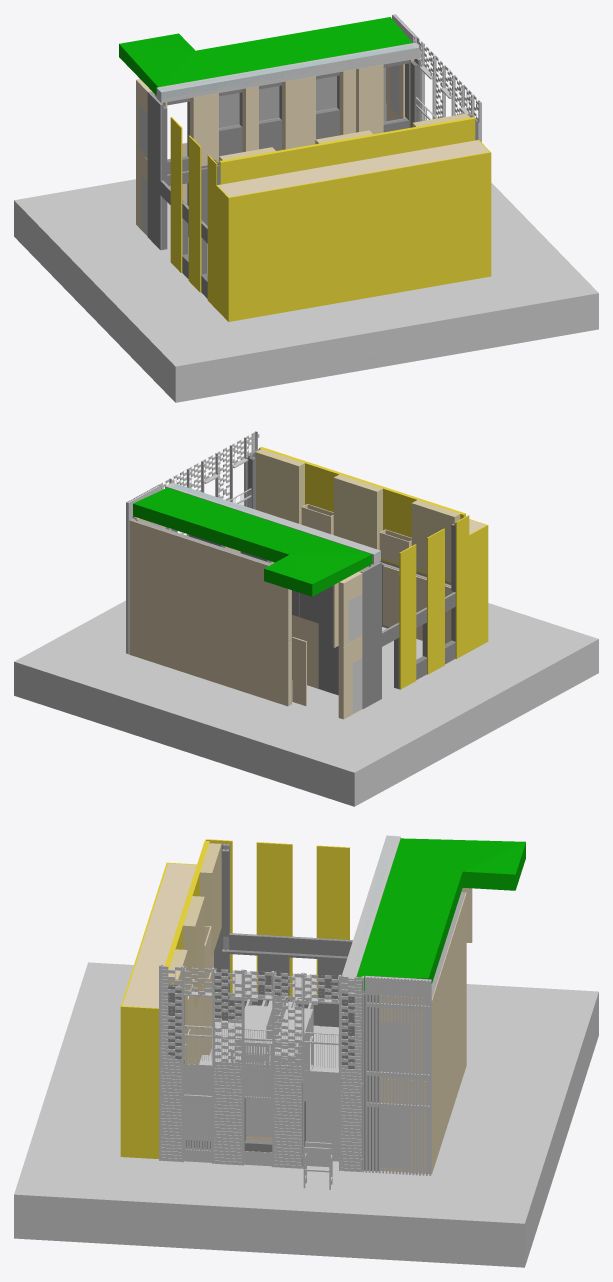
The picture shows the model from 3 angles, top to bottom: view 1: azimuth 30°, elevation 25°; view 2: azimuth 150°, elevation 25°; view 3: azimuth 270°, elevation 25°; orthographic projection. The views are drawn at different scales.
Parts seen in each view (by area): view 1: 0d3L4O0F59seKqYsLLgrkj, 2v9yYy8EH3HOJpknbzuAzj, 2gjWKkFiXEL9Jyys1nJJkd, 2OdDJrY919g8c$VvFhSK0m, 3CWt$a_kb9$wCQ6bHHV0U1, 2WVu1a2OnC4gox7KKRa3JH, 0xZdHzzMX9uQmfRbWcZnhk, 3VmWyd0f913fvxv67NsL9Z, 3AlVIus6fArBEpGHlLdZtR, 3AlVIus6fArBEpGHlLdZsw, 2v9yYy8EH3HOJpknbzuAZu, 3VmWyd0f913fvxv67NsL7d (+16 smaller); view 2: 0d3L4O0F59seKqYsLLgrkj, 2gjWKkFiXEL9Jyys1nJJkd, 3Ri3ietiX7$xG5uKDum9j5, 0vVDU5bLz61w4oGACvW4fv, 0xZdHzzMX9uQmfRbWcZnhk, 3Ri3ietiX7$xG5uKDum9iw, 0vVDU5bLz61w4oGACvW4fu, 02XPZc$jj46gLmFopGcft9, 2OdDJrY919g8c$VvFhSK0m, 02XPZc$jj46gLmFopGcfnE, 3AlVIus6fArBEpGHlLdZtR, 3AlVIus6fArBEpGHlLdZsw (+24 smaller); view 3: 0d3L4O0F59seKqYsLLgrkj, 0xZdHzzMX9uQmfRbWcZnhk, 2gjWKkFiXEL9Jyys1nJJkd, 2v9yYy8EH3HOJpknbzuAvF, 2WVu1a2OnC4gox7KKRa3JH, 3AlVIus6fArBEpGHlLdZtR, 1t6hKOTDP8LvBx6Ujkcb5Q, 3AlVIus6fArBEpGHlLdZsw, 3CWt$a_kb9$wCQ6bHHV0U1, 1vONGcZYTDJwL09tW9vBWf, 02XPZc$jj46gLmFopGce3m, 1vONGcZYTDJwL09tW9v8LB (+26 smaller).
Part boxes in pixels (bbox=[...]): 0d3L4O0F59seKqYsLLgrkj: bbox=[14, 179, 598, 402]; 2v9yYy8EH3HOJpknbzuAzj: bbox=[230, 152, 491, 321]; 2gjWKkFiXEL9Jyys1nJJkd: bbox=[119, 17, 412, 95]; 2OdDJrY919g8c$VvFhSK0m: bbox=[219, 117, 475, 184]; 3CWt$a_kb9$wCQ6bHHV0U1: bbox=[156, 42, 420, 102]; 2WVu1a2OnC4gox7KKRa3JH: bbox=[218, 140, 488, 197]; 0xZdHzzMX9uQmfRbWcZnhk: bbox=[392, 14, 481, 142]; 3VmWyd0f913fvxv67NsL9Z: bbox=[285, 76, 314, 149]; 3AlVIus6fArBEpGHlLdZtR: bbox=[188, 135, 201, 292]; 3AlVIus6fArBEpGHlLdZsw: bbox=[170, 117, 182, 272]; 2v9yYy8EH3HOJpknbzuAZu: bbox=[216, 185, 229, 321]; 3VmWyd0f913fvxv67NsL7d: bbox=[358, 65, 382, 134]; 0d3L4O0F59seKqYsLLgrkj: bbox=[14, 600, 598, 806]; 2gjWKkFiXEL9Jyys1nJJkd: bbox=[133, 487, 372, 596]; 3Ri3ietiX7$xG5uKDum9j5: bbox=[208, 544, 260, 631]; 0vVDU5bLz61w4oGACvW4fv: bbox=[129, 518, 181, 605]; 0xZdHzzMX9uQmfRbWcZnhk: bbox=[126, 431, 259, 654]; 3Ri3ietiX7$xG5uKDum9iw: bbox=[208, 615, 257, 696]; 0vVDU5bLz61w4oGACvW4fu: bbox=[129, 589, 178, 670]; 02XPZc$jj46gLmFopGcft9: bbox=[333, 474, 382, 549]; 2OdDJrY919g8c$VvFhSK0m: bbox=[259, 447, 465, 582]; 02XPZc$jj46gLmFopGcfnE: bbox=[255, 449, 304, 524]; 3AlVIus6fArBEpGHlLdZtR: bbox=[427, 528, 444, 674]; 3AlVIus6fArBEpGHlLdZsw: bbox=[399, 544, 416, 689]; 0d3L4O0F59seKqYsLLgrkj: bbox=[14, 962, 598, 1267]; 0xZdHzzMX9uQmfRbWcZnhk: bbox=[159, 964, 431, 1175]; 2gjWKkFiXEL9Jyys1nJJkd: bbox=[356, 838, 525, 990]; 2v9yYy8EH3HOJpknbzuAvF: bbox=[122, 1006, 158, 1158]; 2WVu1a2OnC4gox7KKRa3JH: bbox=[122, 863, 196, 1007]; 3AlVIus6fArBEpGHlLdZtR: bbox=[256, 842, 292, 1000]; 1t6hKOTDP8LvBx6Ujkcb5Q: bbox=[231, 994, 313, 1077]; 3AlVIus6fArBEpGHlLdZsw: bbox=[316, 845, 349, 998]; 3CWt$a_kb9$wCQ6bHHV0U1: bbox=[342, 835, 400, 991]; 1vONGcZYTDJwL09tW9vBWf: bbox=[318, 938, 349, 1027]; 02XPZc$jj46gLmFopGce3m: bbox=[200, 843, 221, 956]; 1vONGcZYTDJwL09tW9v8LB: bbox=[258, 935, 289, 1005].
Bounding box in the file's own units: 17.99 × 7.66 × 17.02.
